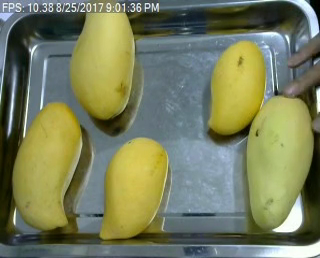Mango: (13, 96, 82, 237), (65, 0, 141, 122), (246, 90, 313, 225), (95, 134, 171, 241), (201, 39, 269, 136)
